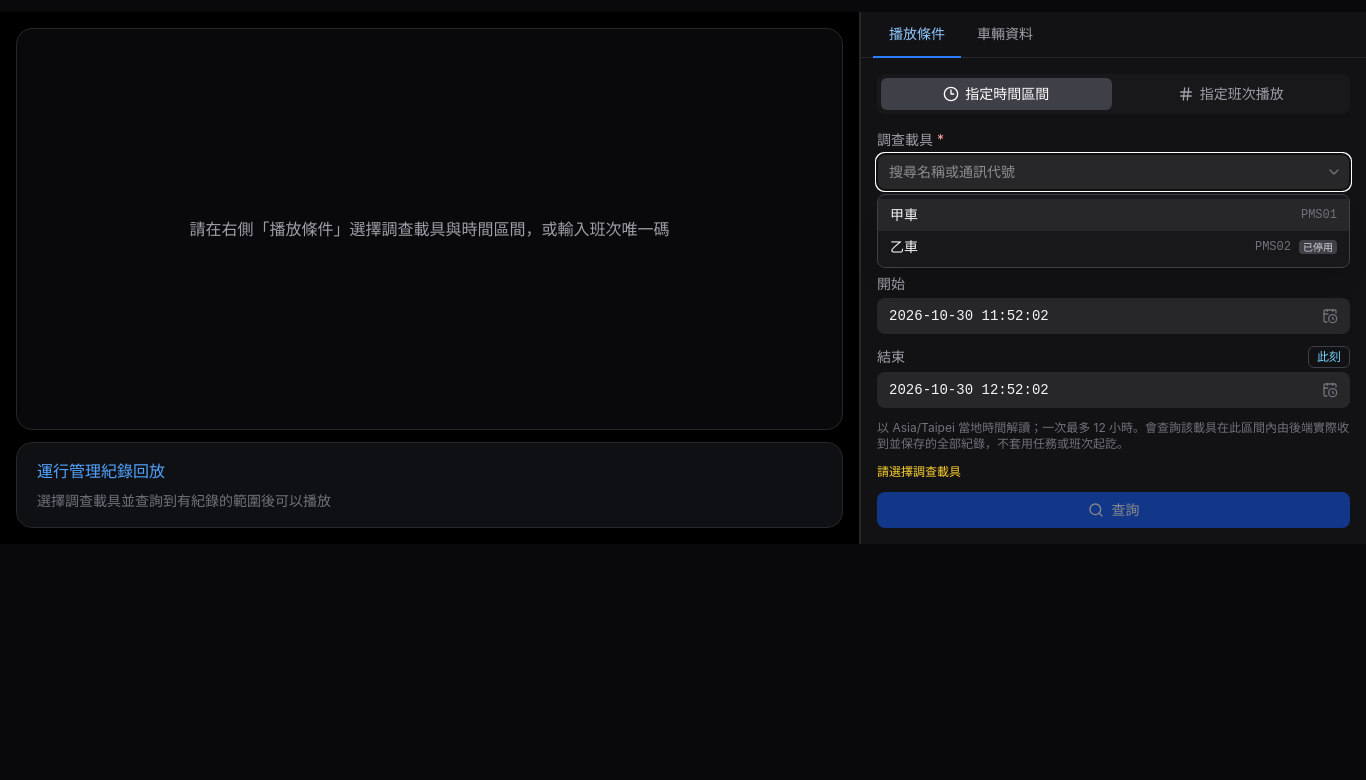
Test: 運行管理紀錄：固定調查載具 › 1. 時間區間模式沒選載具不能查詢
Expected: the submit button is disabled, [877,492,1350,528]
Press the mouse on the option "甲車 PMS01": (1319, 215) [878,199,1349,231]
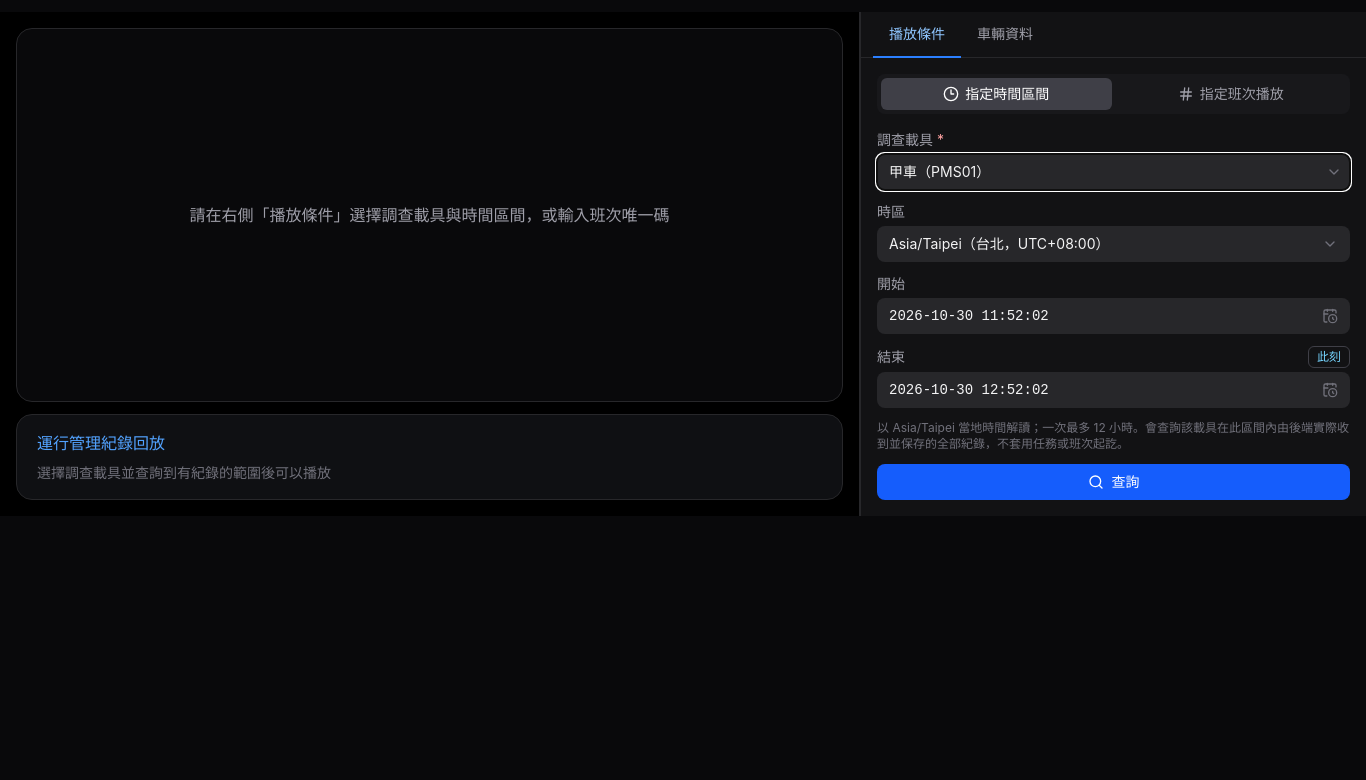
Expected: the submit button is enabled, [877,464,1350,500]
